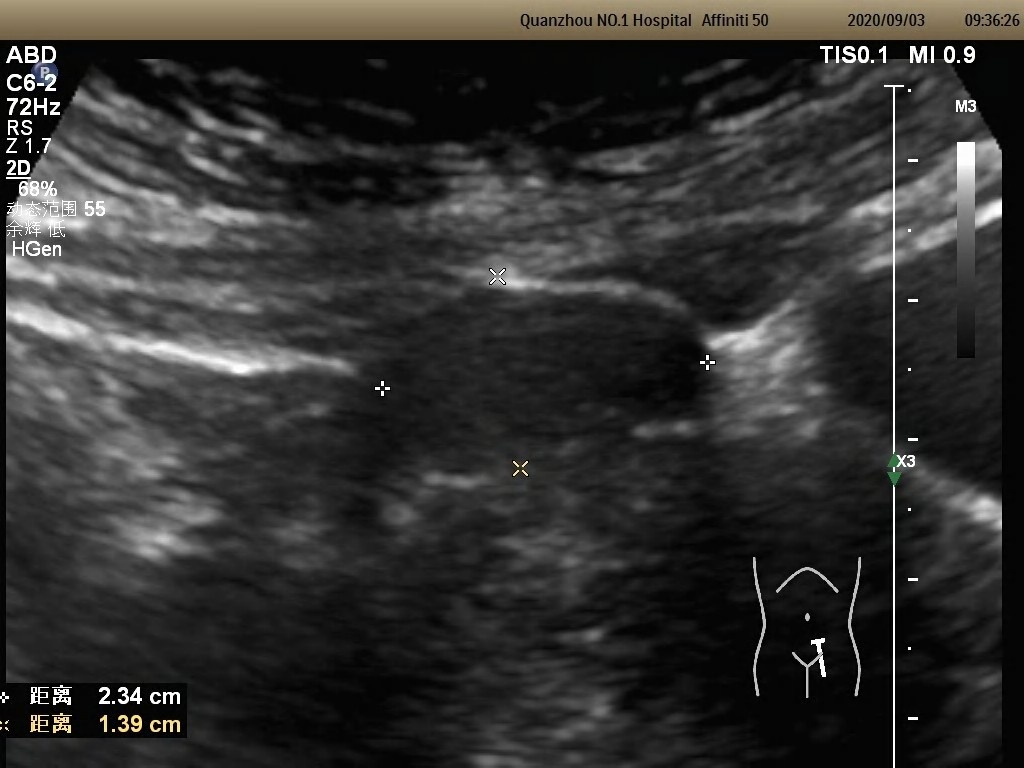肌瘤: (405, 302, 673, 448)
